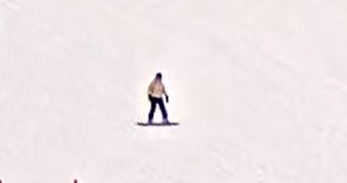snowboarder: (133, 70, 180, 127)
